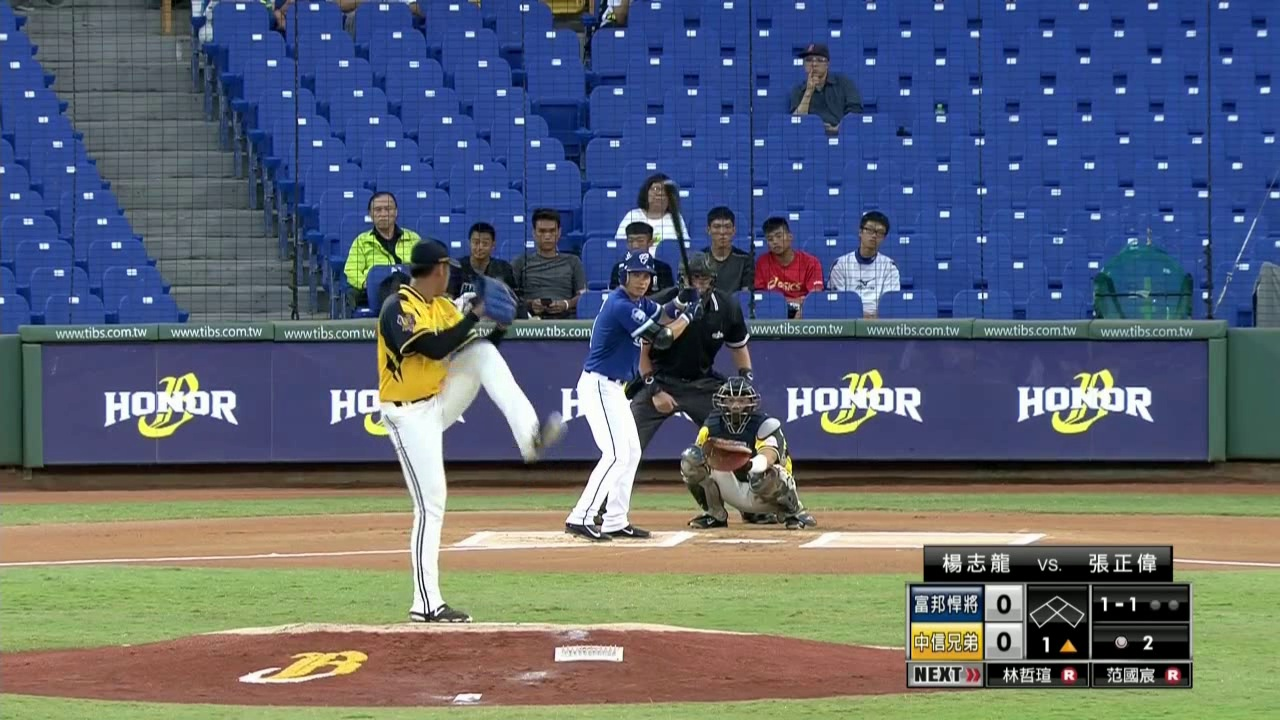base: (1027, 592, 1086, 630)
bat: (659, 176, 695, 289)
out: (1148, 596, 1180, 611)
score1: (985, 584, 1022, 620)
score2: (986, 622, 1022, 658)
session: (1037, 635, 1080, 653)
strikeball: (1098, 593, 1139, 616)
total: (1107, 631, 1158, 652)
